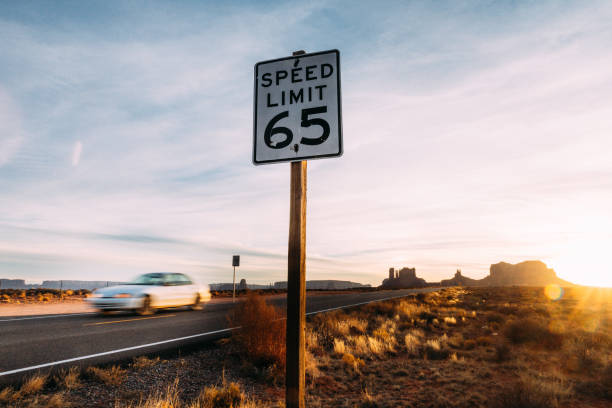SpeedLimitSign: (251, 48, 345, 166)
